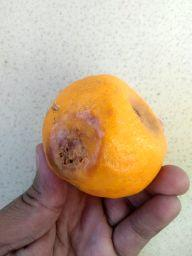Unripe: (44, 76, 167, 197)
